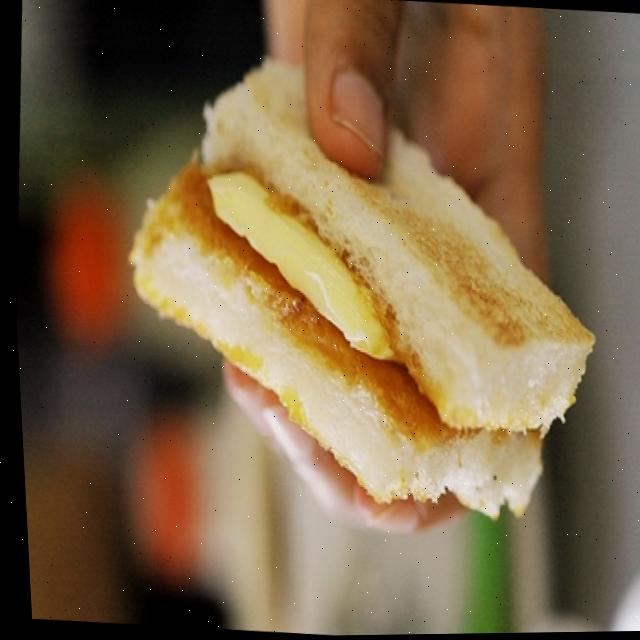面包点心: (58, 39, 620, 574)
